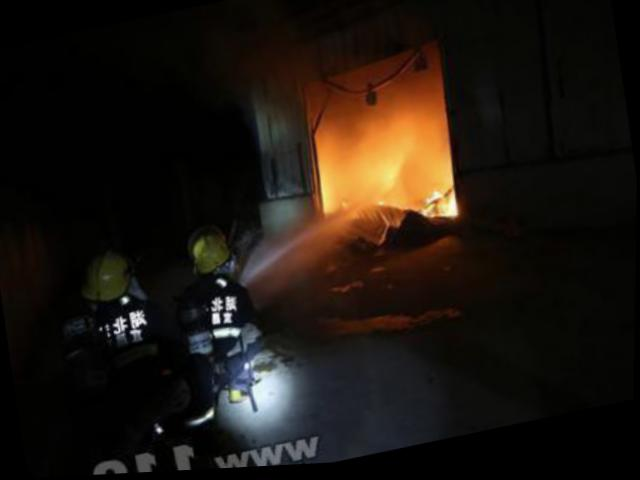fire: (310, 109, 461, 243)
